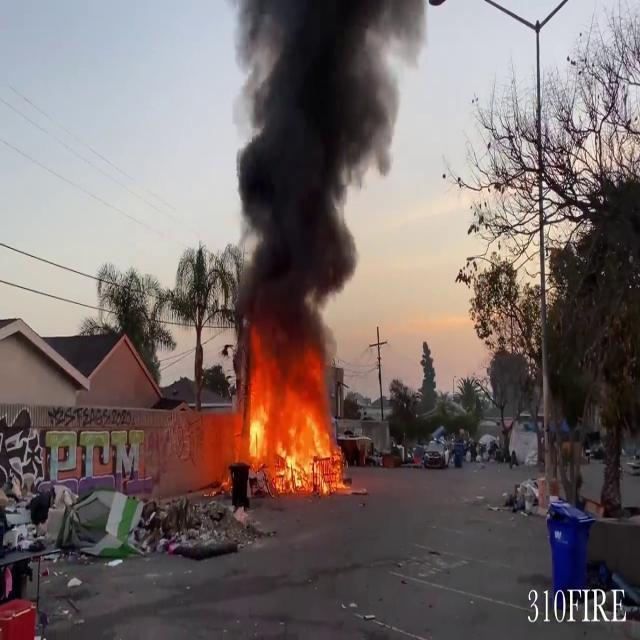Fire: (232, 350, 346, 494)
Smoke: (224, 0, 421, 342)
